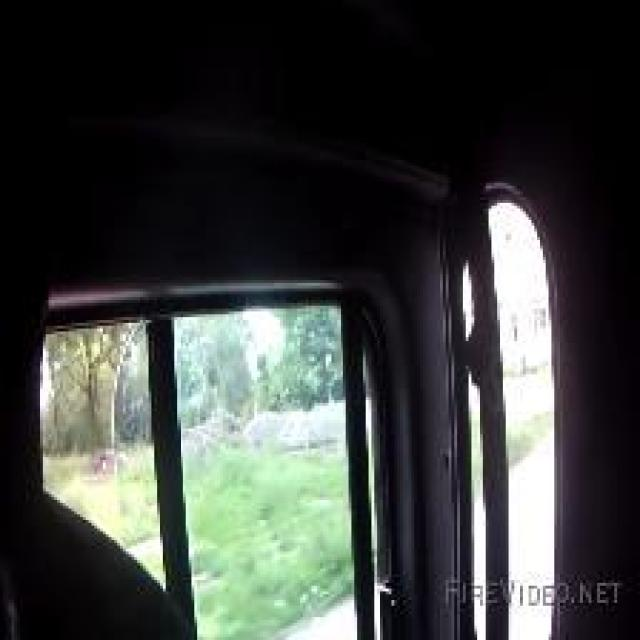other: (448, 204, 566, 607), (222, 302, 277, 377)
